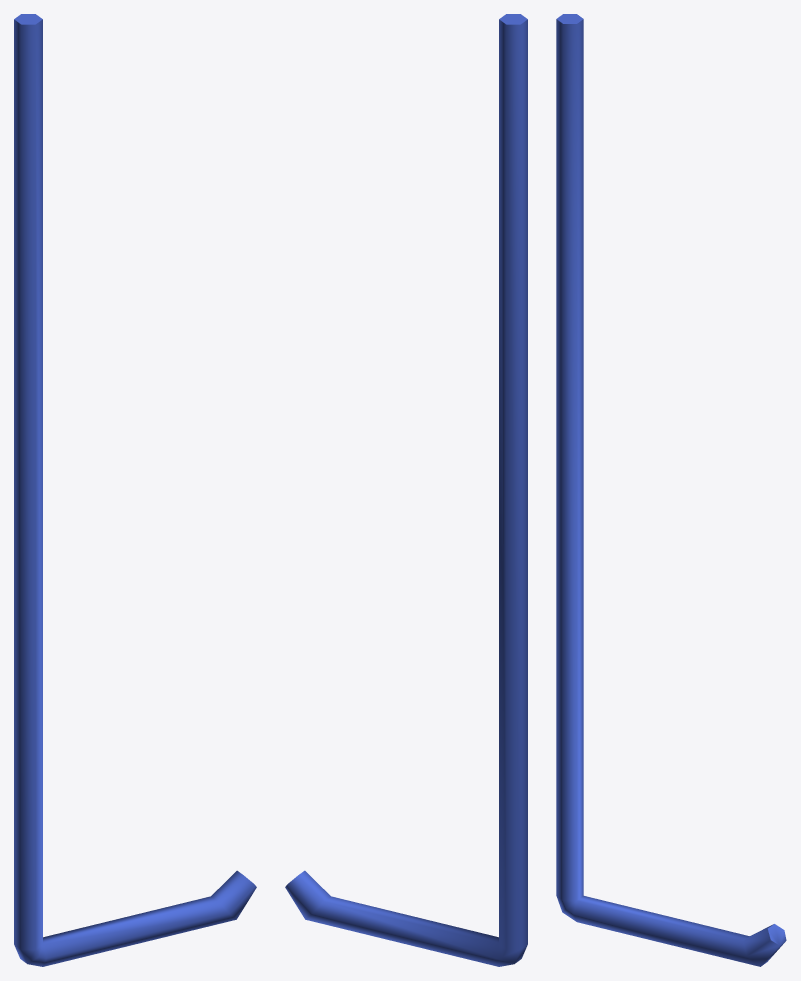
File: Spreader.fbx
3 renders of one model, left to right at view 1: azimuth 30°, elevation 25°; view 2: azimuth 150°, elevation 25°; view 3: azimuth 330°, elevation 25°, orthographic. The views are drawn at different scales.
Visible parts, largest first — view 1: Cylinder; view 2: Cylinder; view 3: Cylinder.
Boxes of the visible parts, box(x1,y1,x2,y2) form: Cylinder: box(14, 14, 256, 966); Cylinder: box(285, 14, 527, 966); Cylinder: box(556, 14, 786, 966).
Size of the model in its own units: 0.4 by 3.77 by 14.5.
